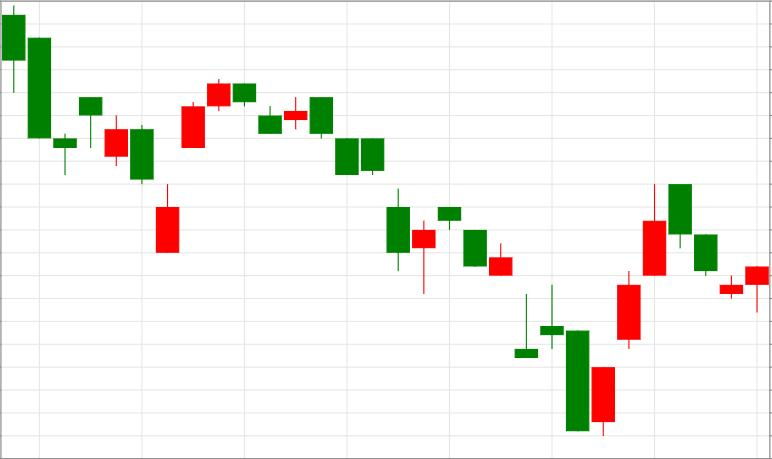three_white_soldiers_rise: (310, 98, 665, 437)
